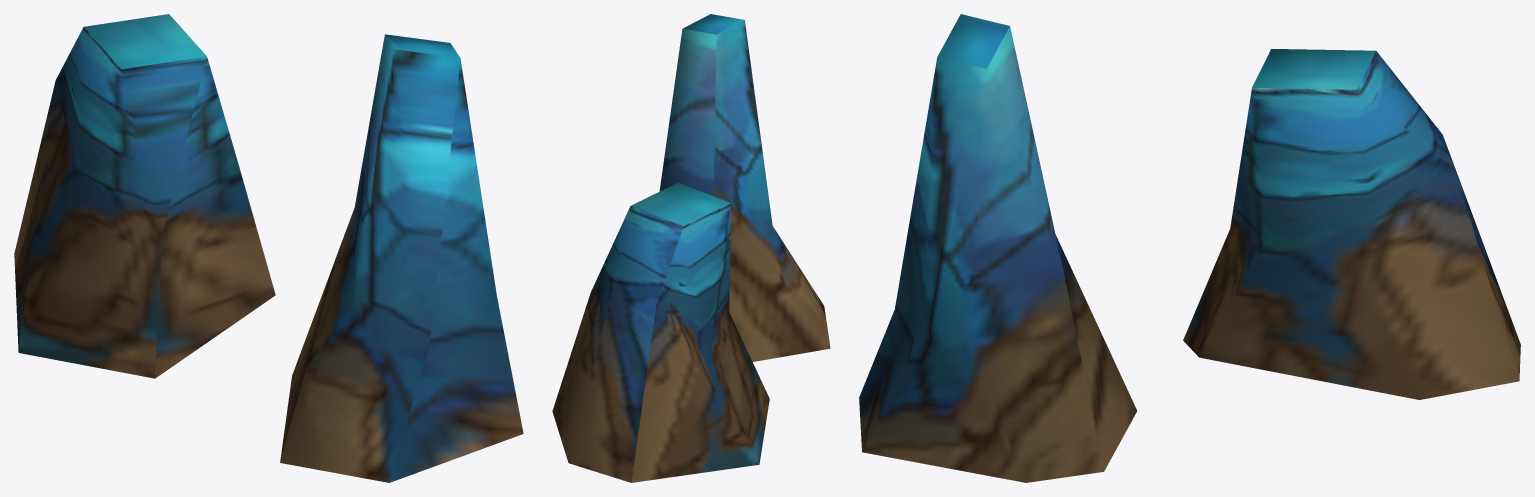
File: 2_DG_KuangShi_01_04.FBX
3 renders of one model, left to right at view 1: azimuth 30°, elevation 25°; view 2: azimuth 150°, elevation 25°; view 3: azimuth 270°, elevation 25°, orthographic. The views are drawn at different scales.
Visible parts, largest first — view 1: 2_DG_KuangShi_01_04, 2_DG_KuangShi_01_05; view 2: 2_DG_KuangShi_01_04, 2_DG_KuangShi_01_05; view 3: 2_DG_KuangShi_01_04, 2_DG_KuangShi_01_05.
Boxes of the visible parts, box(x1,y1,x2,y2) form: 2_DG_KuangShi_01_04: box(14, 14, 275, 378); 2_DG_KuangShi_01_05: box(280, 34, 523, 482); 2_DG_KuangShi_01_04: box(552, 182, 769, 482); 2_DG_KuangShi_01_05: box(659, 14, 830, 361); 2_DG_KuangShi_01_04: box(1183, 49, 1520, 399); 2_DG_KuangShi_01_05: box(859, 14, 1136, 482).
Bounding box in the file's own units: 153 × 195 × 273.
1 material, 1 textured.
